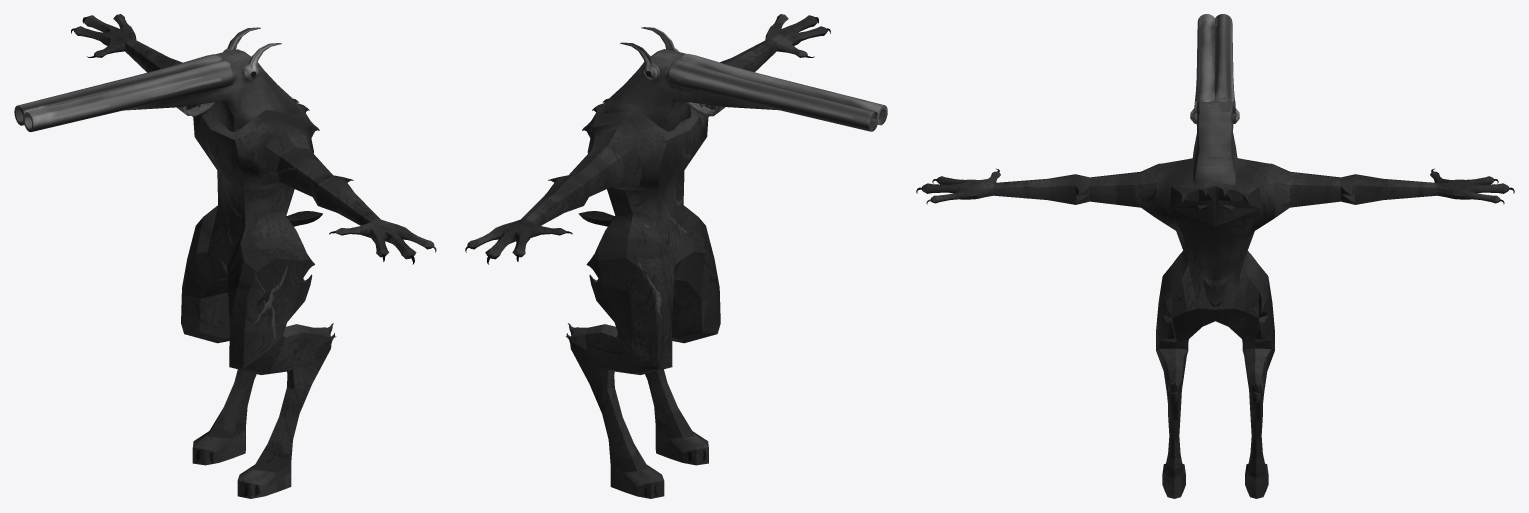
The model's file is Werewolf_FInal_01.fbx.
3 views of the same model, side by side, from view 1: azimuth 30°, elevation 25°; view 2: azimuth 150°, elevation 25°; view 3: azimuth 270°, elevation 25° (orthographic). The views are drawn at different scales.
Visible parts, largest first — view 1: Body, Left_Barrel, Base, Right_Barrel; view 2: Body, Right_Barrel, Base, Left_Barrel; view 3: Body, Base, Right_Barrel, Left_Barrel.
Boxes of the visible parts, left/top/right/bottom form: Body: left=71, top=14, right=436, bottom=498; Left_Barrel: left=23, top=60, right=235, bottom=131; Base: left=123, top=49, right=299, bottom=131; Right_Barrel: left=14, top=54, right=221, bottom=125; Body: left=465, top=14, right=830, bottom=498; Right_Barrel: left=666, top=60, right=877, bottom=131; Base: left=602, top=49, right=778, bottom=131; Left_Barrel: left=680, top=54, right=887, bottom=125; Body: left=916, top=158, right=1514, bottom=498; Base: left=1192, top=99, right=1237, bottom=185; Right_Barrel: left=1215, top=14, right=1235, bottom=103; Left_Barrel: left=1194, top=14, right=1214, bottom=107.
Size of the model in its own units: 134 by 186 by 257.
